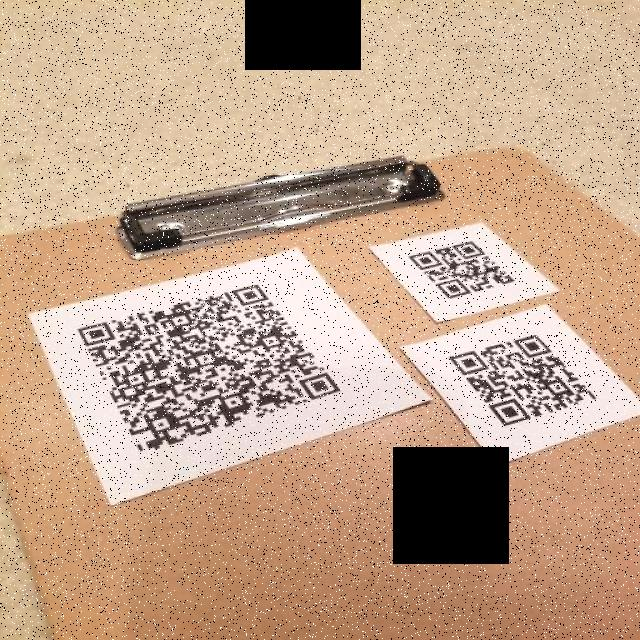QR_CODE: (68, 276, 352, 459), (442, 330, 616, 434), (398, 228, 524, 308)
